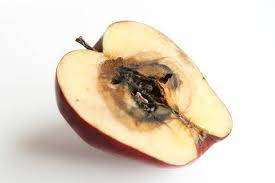damaged_apple: (53, 20, 237, 176)
